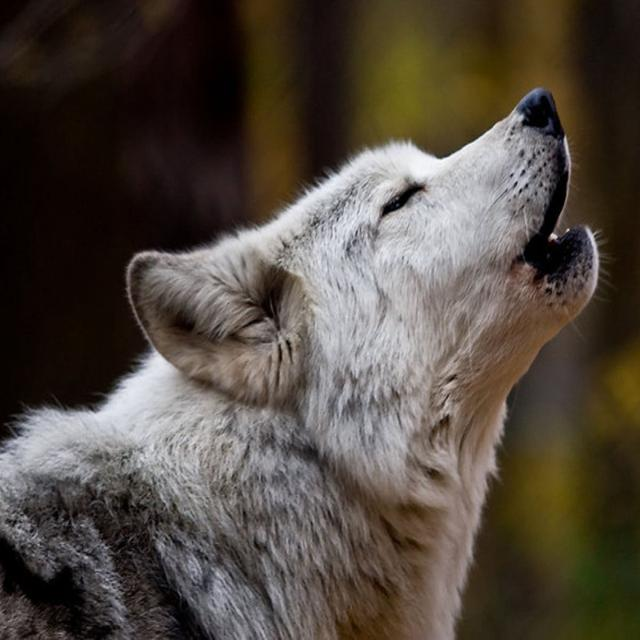Wolf: (1, 84, 610, 638)
